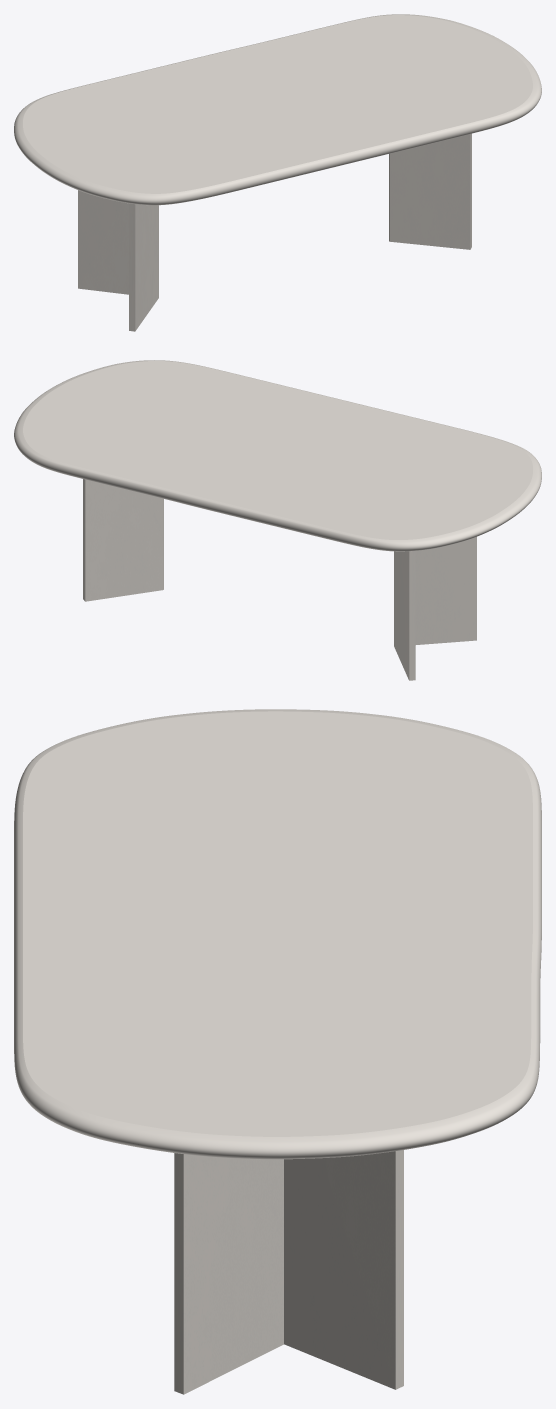
Rendered from pearlwhite_oval_round_valleyv.glb.
3 renders of one model, top to bottom at view 1: azimuth 30°, elevation 25°; view 2: azimuth 150°, elevation 25°; view 3: azimuth 270°, elevation 25°, orthographic. The views are drawn at different scales.
Parts seen in each view (by area): view 1: round_oval, valleyv; view 2: round_oval, valleyv; view 3: round_oval, valleyv.
Part boxes in pixels (x1,y1,x2,y2): round_oval: [14, 14, 541, 205]; valleyv: [78, 133, 471, 331]; round_oval: [14, 360, 541, 551]; valleyv: [83, 479, 476, 680]; round_oval: [14, 709, 541, 1159]; valleyv: [174, 1150, 403, 1394].
Size of the model in its own units: 7.5 by 2.5 by 3.8.
1 material, 1 textured.
